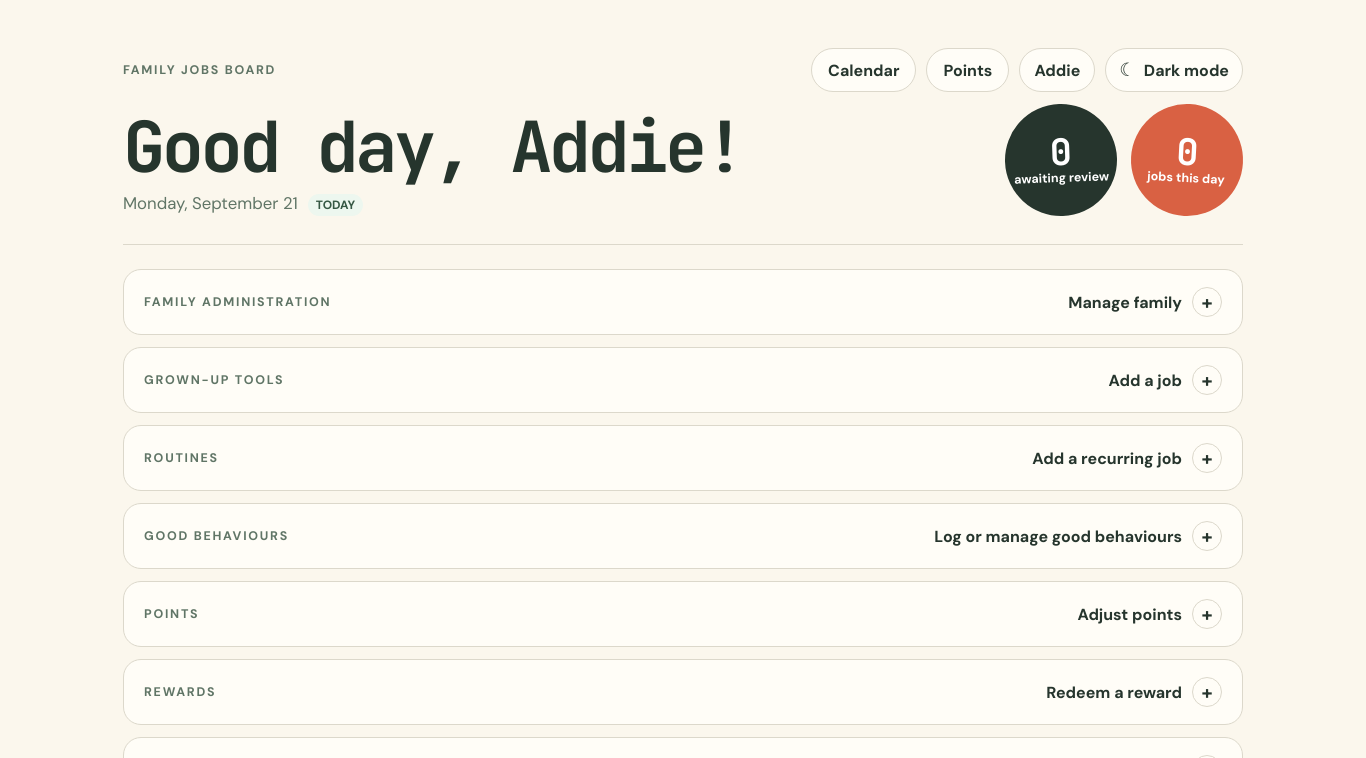
Test case: Point adjustments › shows the server's message when removing more points than the child has
This screenshot has width=1366, height=758.
Expected: the heading "Good day, Addie!" is shown, [123, 112, 742, 182]
Click the heading "Points Adjust points +" at (172, 614), box [144, 599, 1222, 629]
(page scrolled)
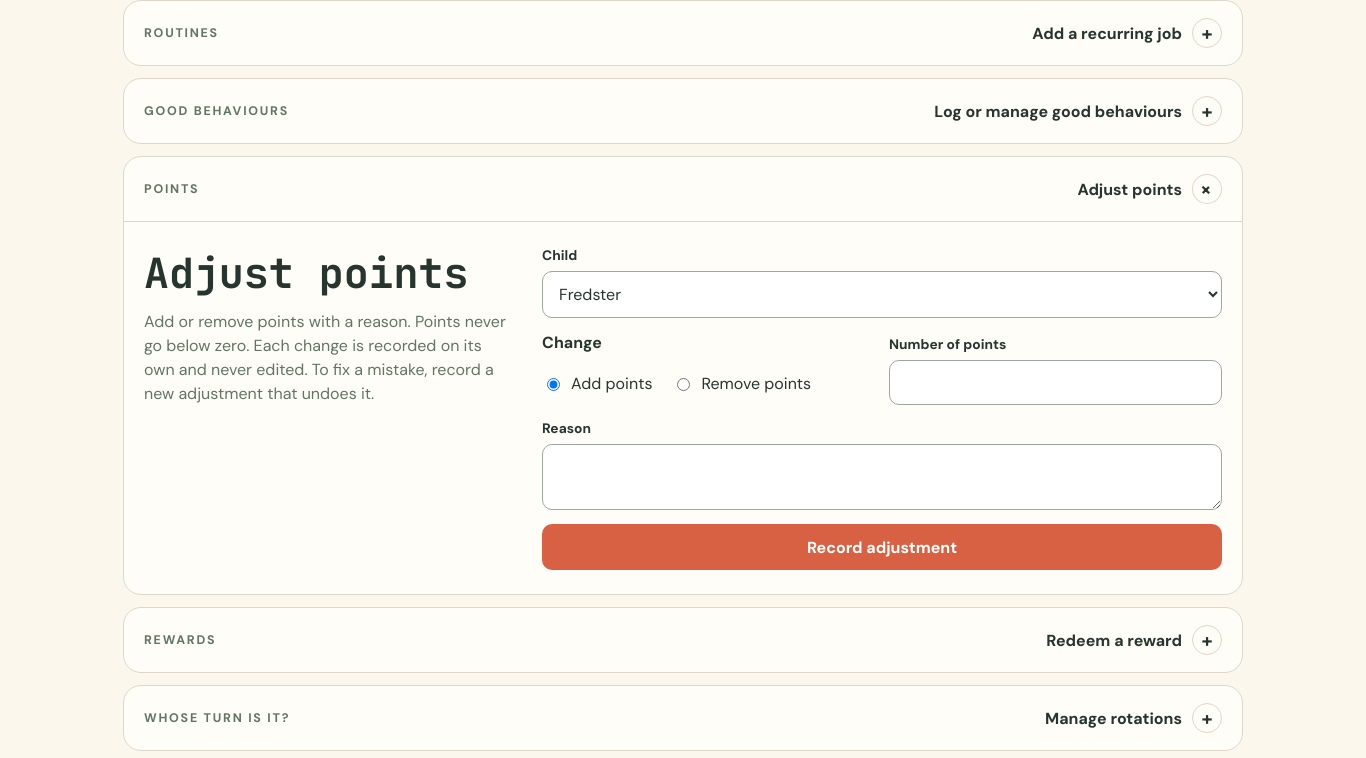
Click the radio button labelled "Remove points" at (684, 384), box [678, 378, 690, 391]
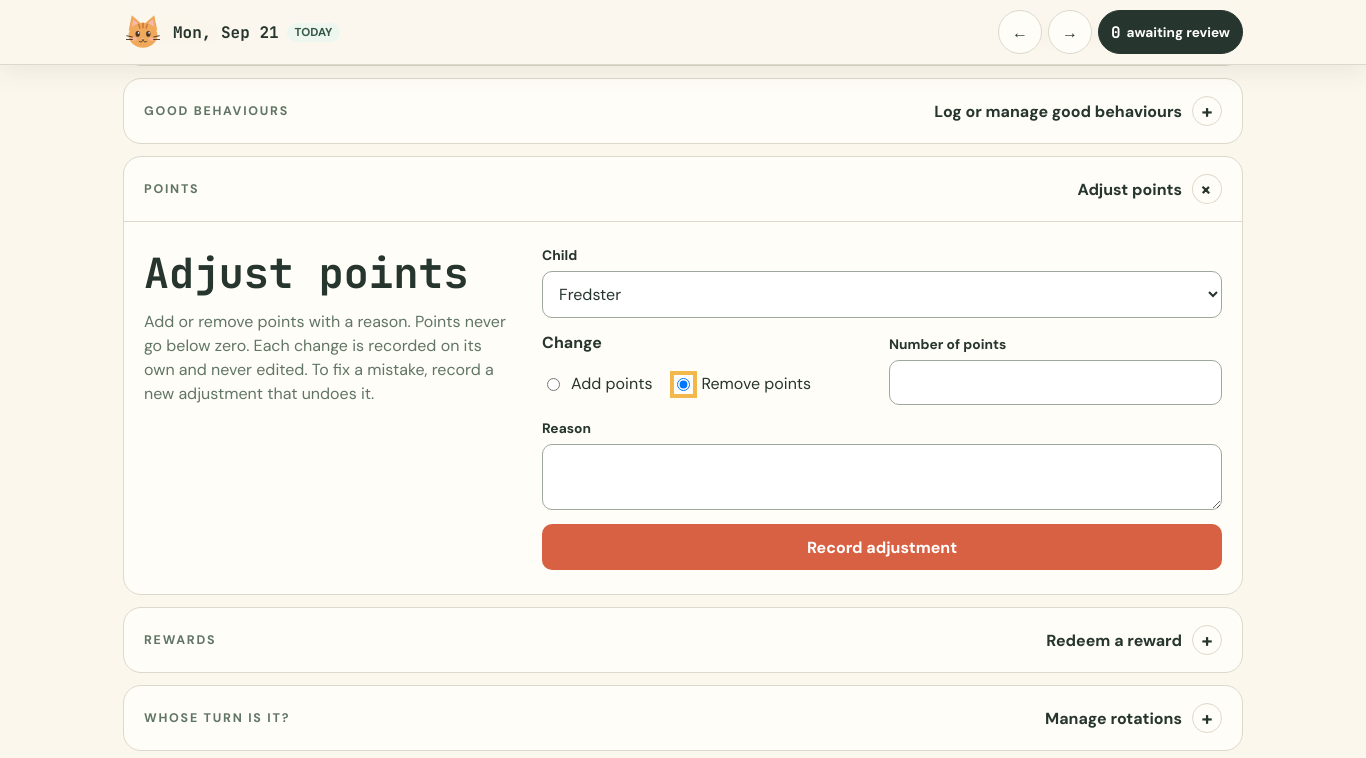
Type "5" into the number field labelled "Number of points" at (1056, 382), box [889, 360, 1222, 405]
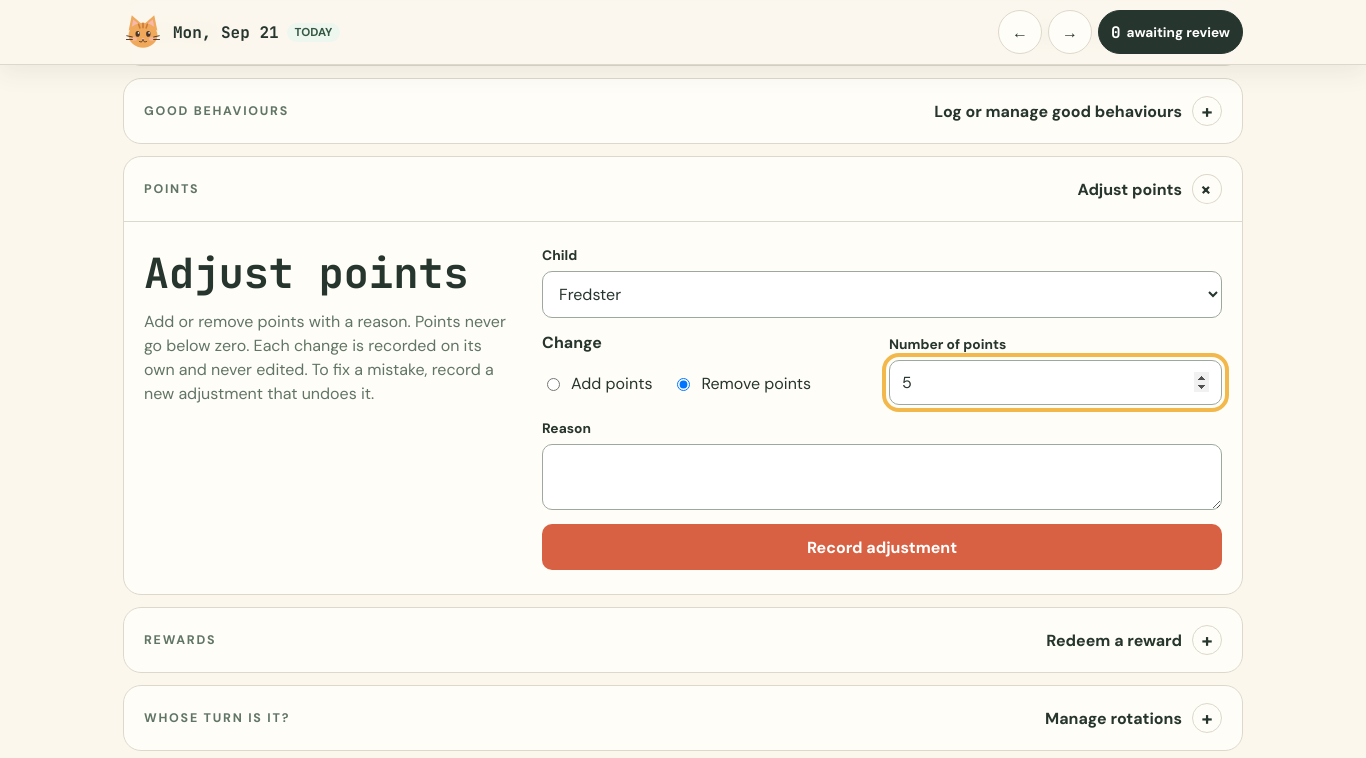
Type "Lost a book" into the text box labelled "Reason" at (882, 477), box [542, 444, 1222, 510]
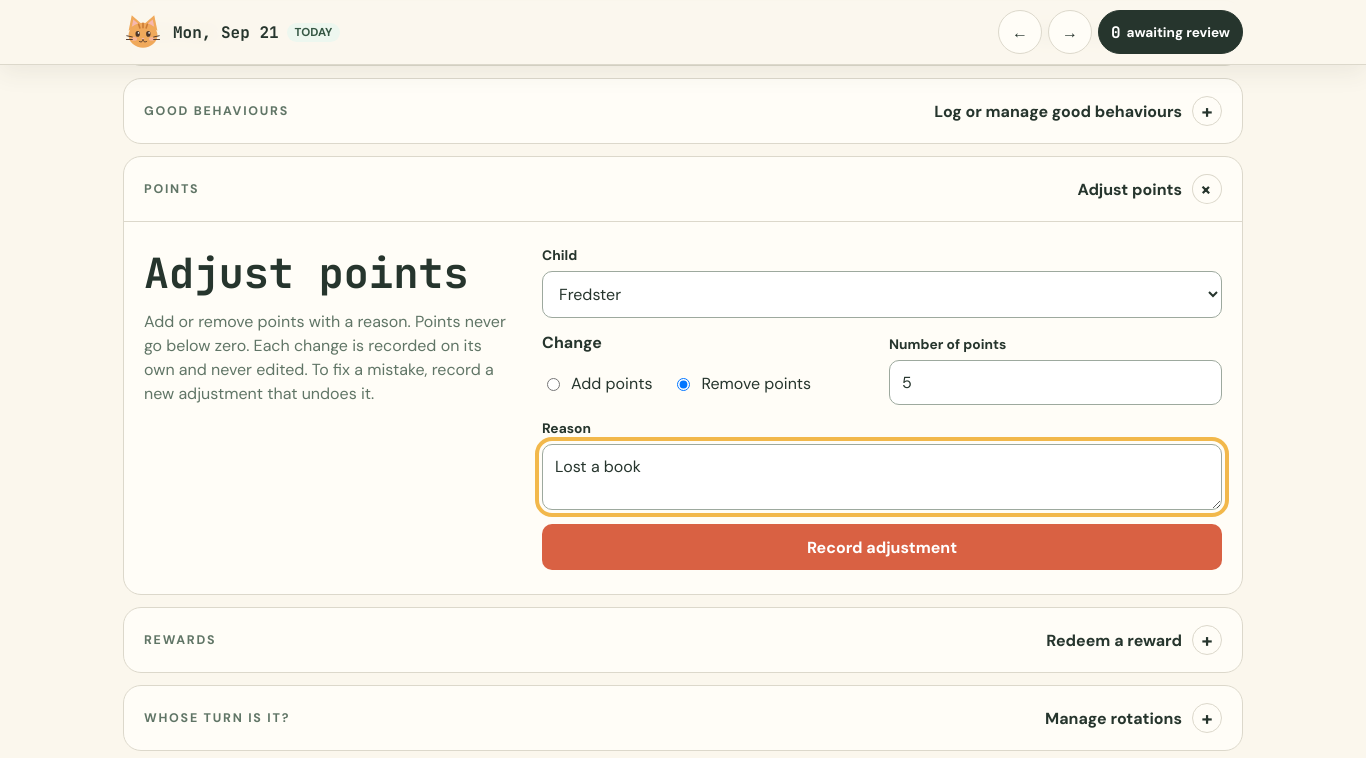
Click the button "Record adjustment" at (882, 547), box [542, 524, 1222, 570]
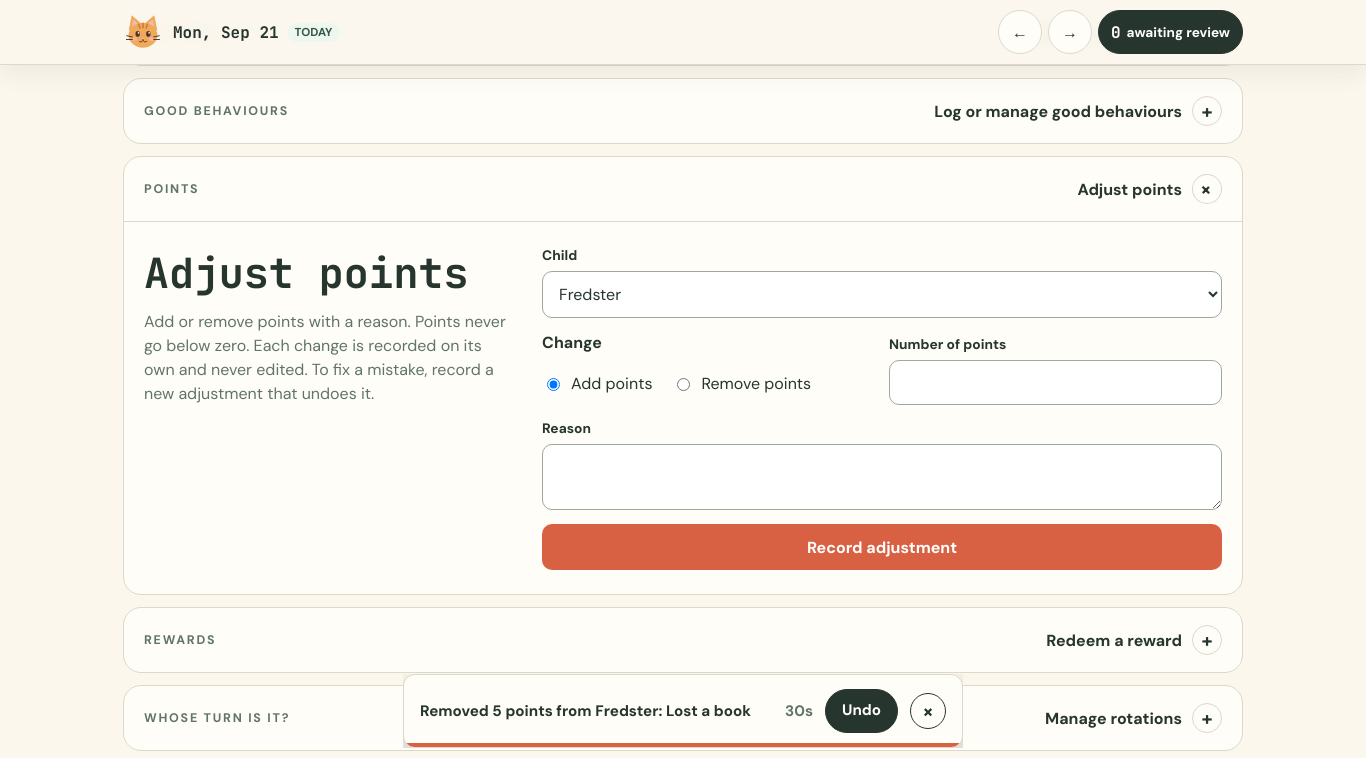
Click the button named "Dismiss and save now" at (928, 711), box [910, 693, 946, 729]
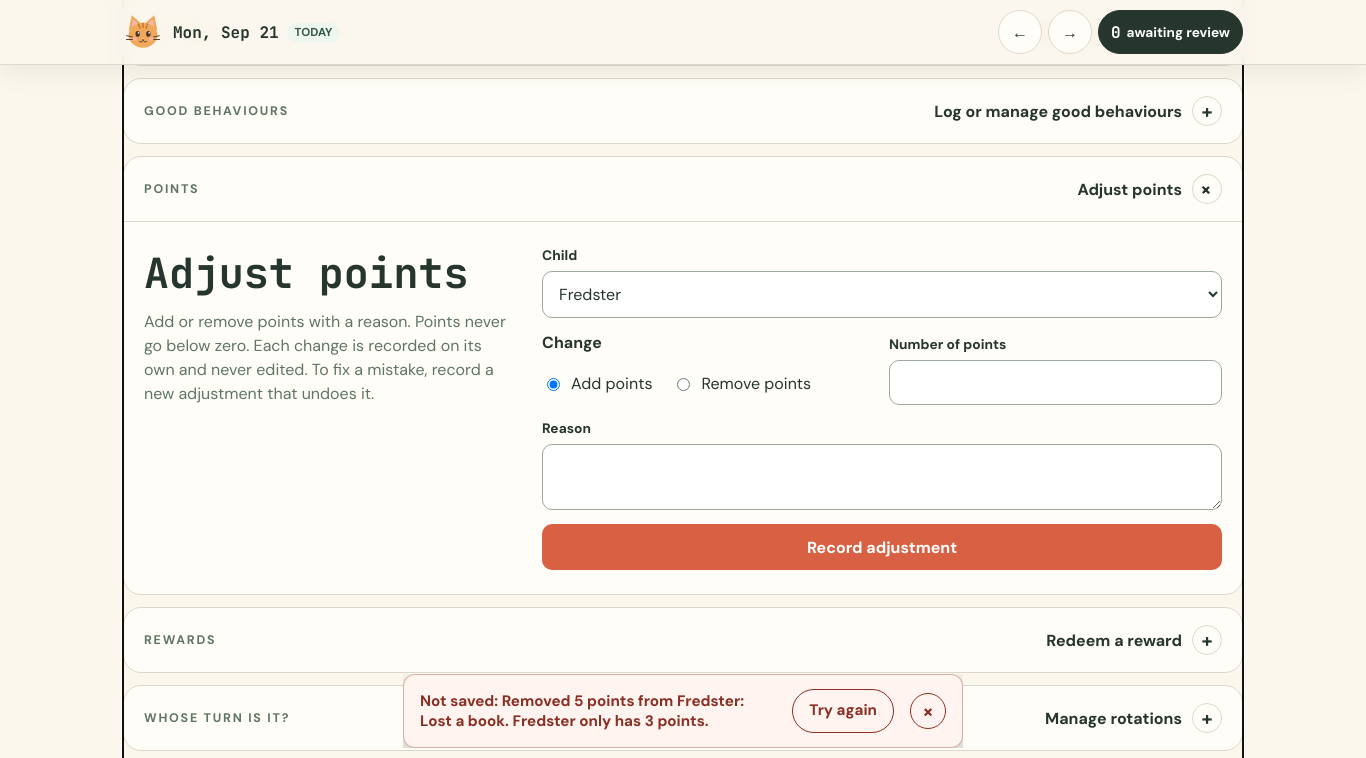
Result: the message shows "Not saved: Removed 5 points from Fredster: Lost a book. Fredster only has 3 points." at [420, 691, 744, 731]
